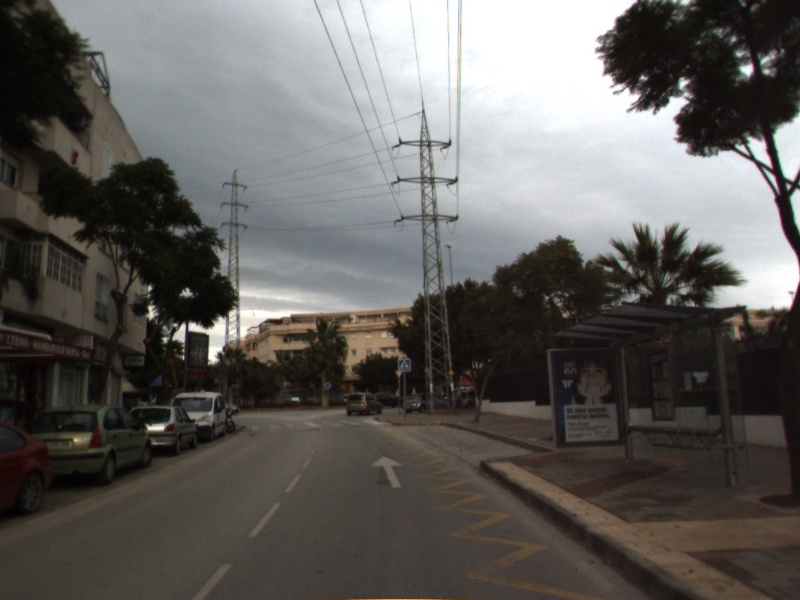STRAIGHT: (369, 454, 405, 490)
